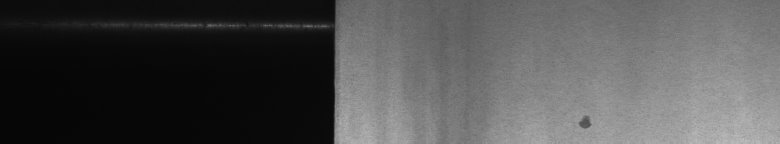fi: (575, 109, 596, 136)
